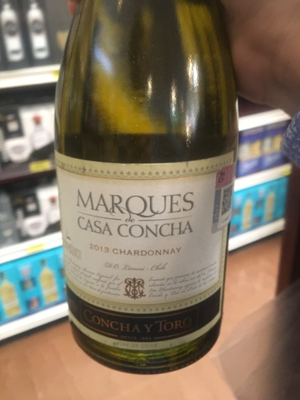marques de casa concha chardonnay: (53, 21, 243, 381)
